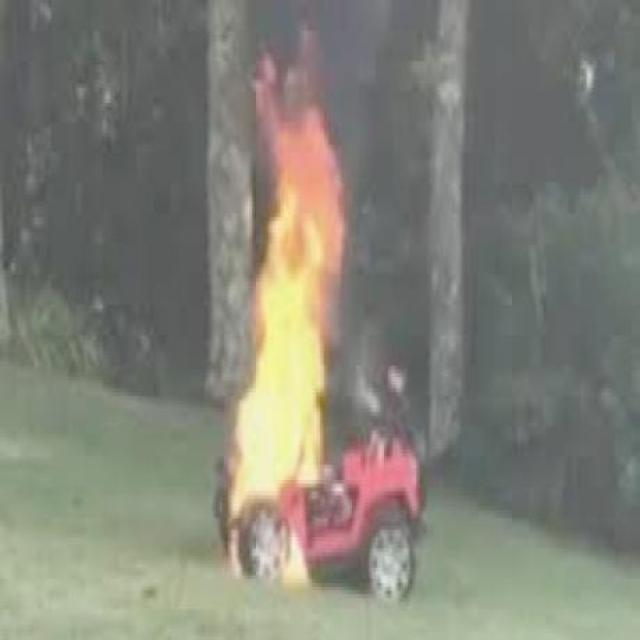Fire: (230, 94, 340, 498)
